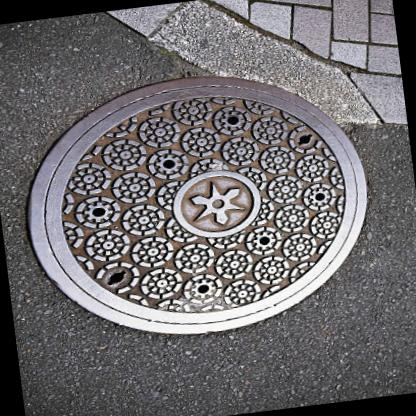manholes: (9, 51, 399, 359)
